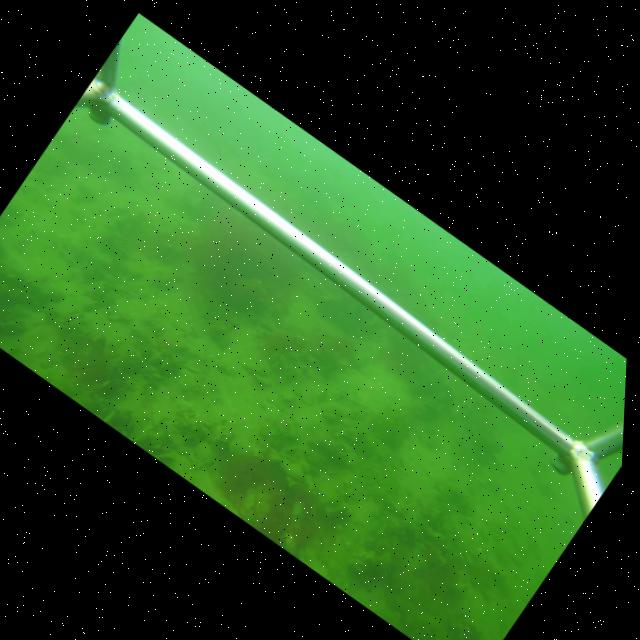Oyster-Closed: (276, 456, 305, 482)
